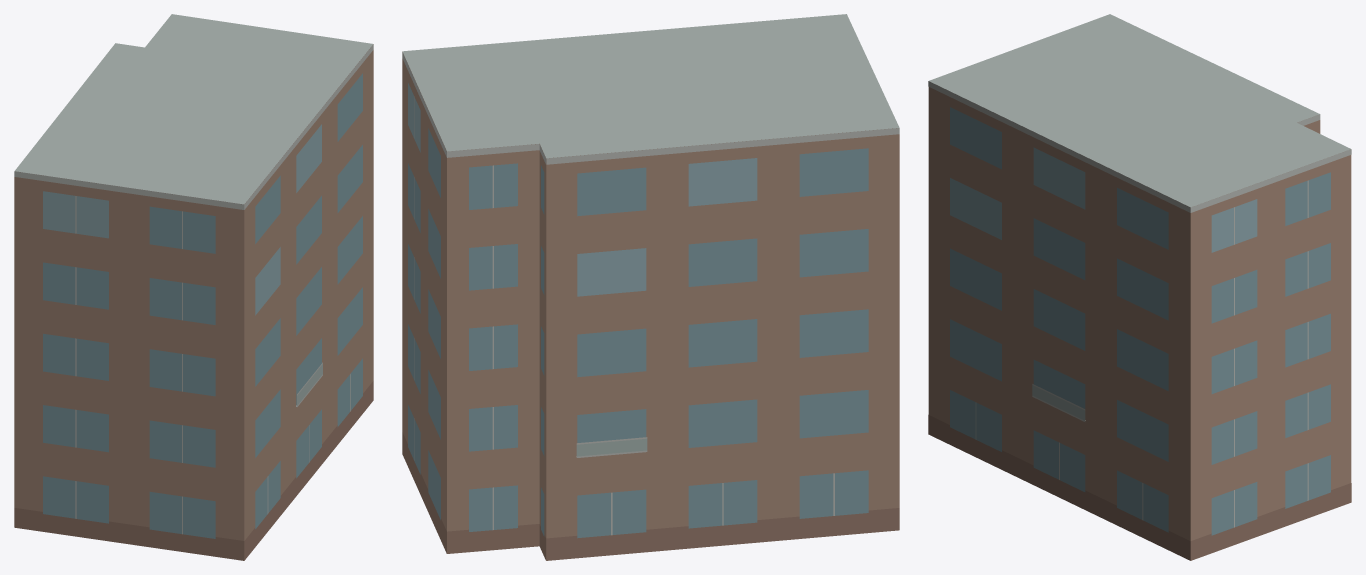
File: survey-upis-32843750.glb
3 renders of one model, left to right at view 1: azimuth 30°, elevation 25°; view 2: azimuth 150°, elevation 25°; view 3: azimuth 270°, elevation 25°, orthographic. The views are drawn at different scales.
Visible parts, largest first — view 1: survey-upis-32843750.tmp; view 2: survey-upis-32843750.tmp; view 3: survey-upis-32843750.tmp.
Boxes of the visible parts, x1=… form: survey-upis-32843750.tmp: x1=14, y1=14, x2=373, y2=560; survey-upis-32843750.tmp: x1=402, y1=14, x2=899, y2=560; survey-upis-32843750.tmp: x1=928, y1=14, x2=1351, y2=560.
Bounding box in the file's own units: 18.01 × 15.34 × 16.64.
